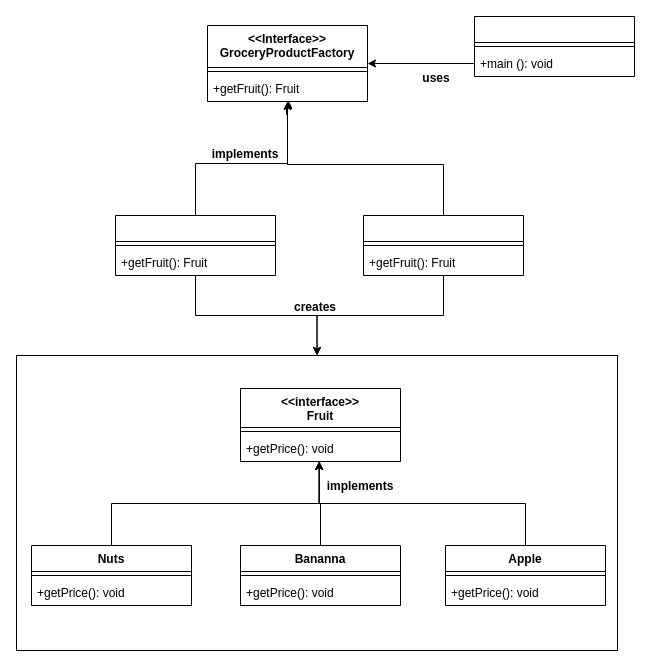
Image size: 651x667. Some labels were removed from this diagram. Here are the shapes that lost their labels. From the top down, the box of each, then its label:
(474, 16, 634, 76): AbstractFactoryTest
(114, 214, 276, 276): FleshyFruitFactory
(362, 214, 524, 276): DryFruitFactory
